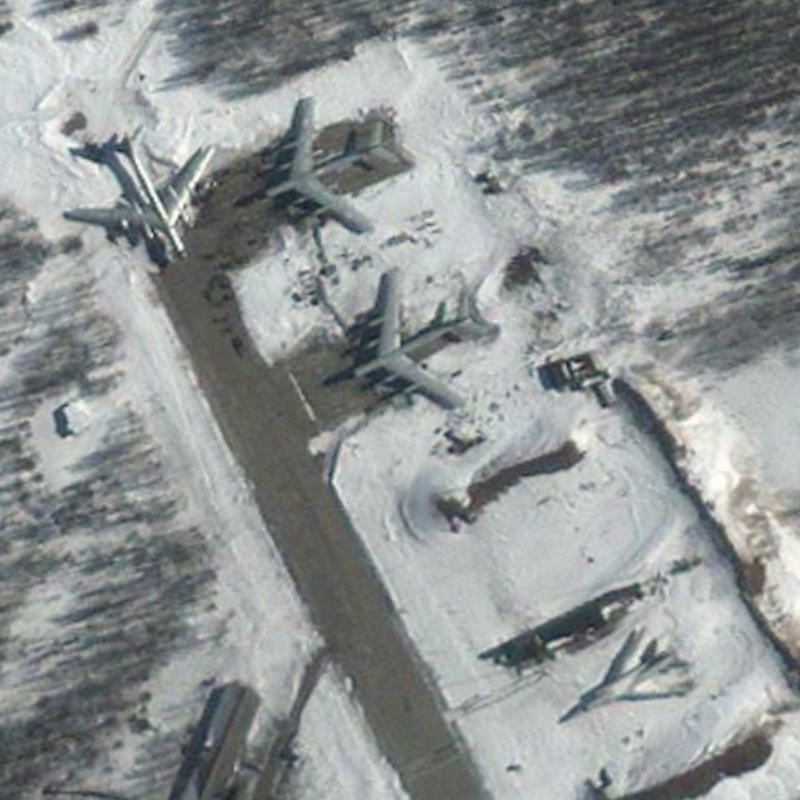A12: (554, 622, 699, 729)
A17: (334, 265, 499, 417), (58, 120, 222, 267), (248, 93, 406, 239)
